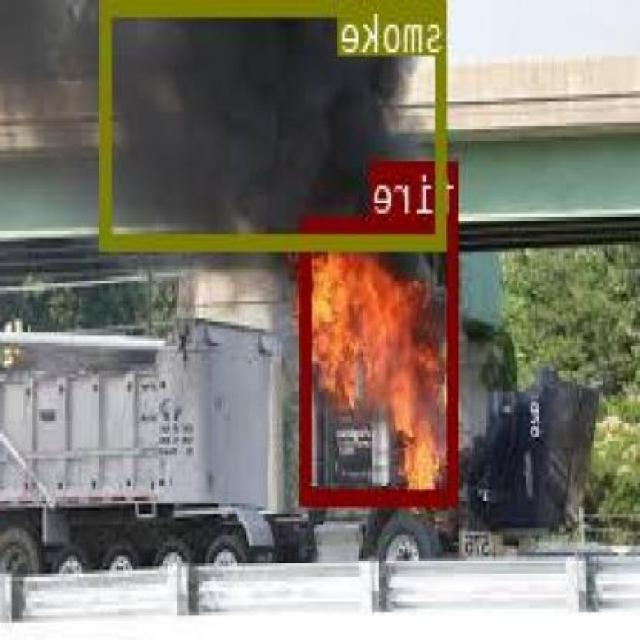Fire: (302, 214, 461, 502)
Smoke: (105, 0, 448, 245)
